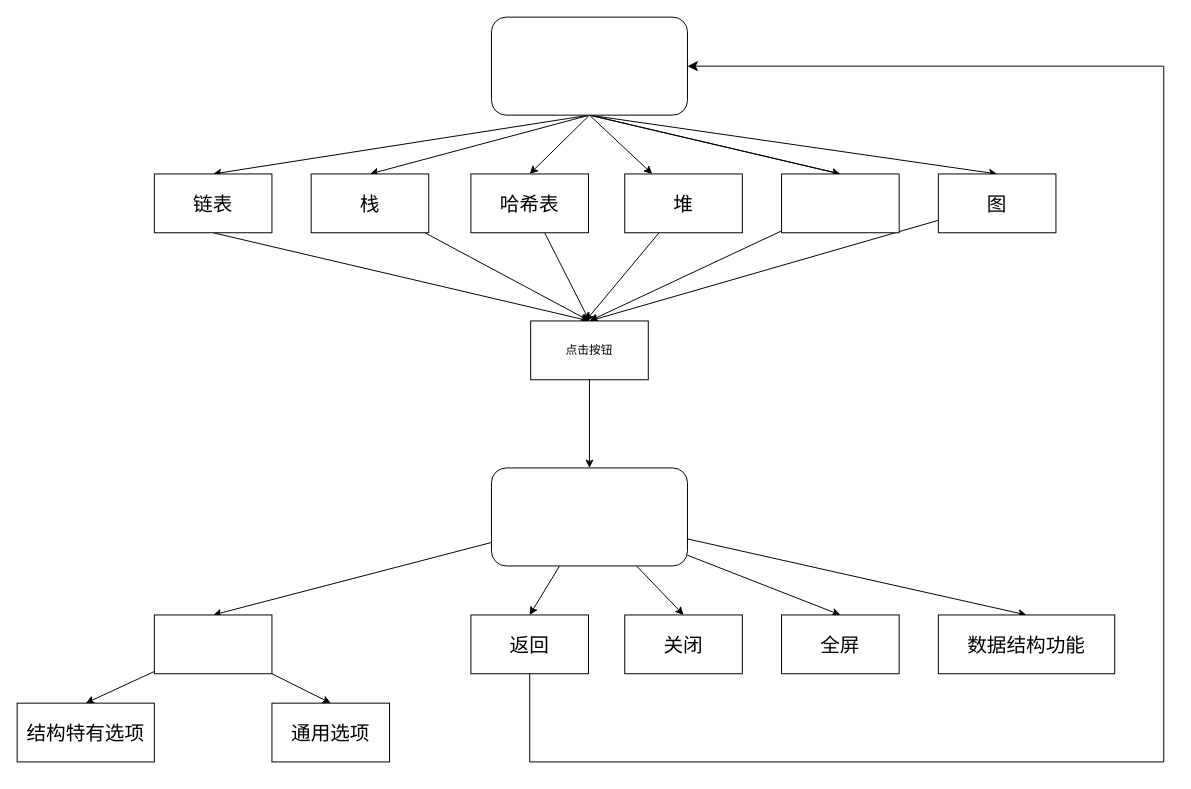
Some shapes in this 1191 by 789 pixel diagram are drawn without their labels. Here are the shapes that lost their labels. From the top down, the centre of each, then its label:
the point at 588,65: 主界面
the point at 840,203: 二叉树
the point at 588,516: 数据结构界面
the point at 212,644: 设置
